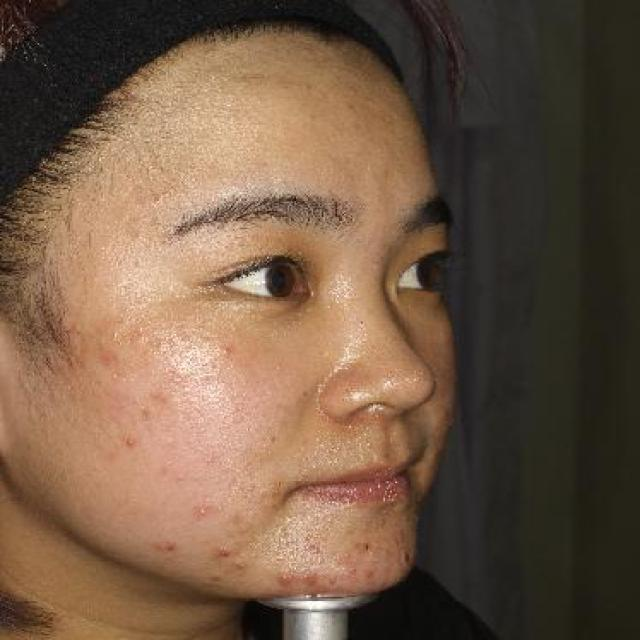Acne: (207, 539, 238, 566), (272, 566, 301, 591)
Whiteheads: (188, 503, 216, 519), (219, 343, 240, 357)
